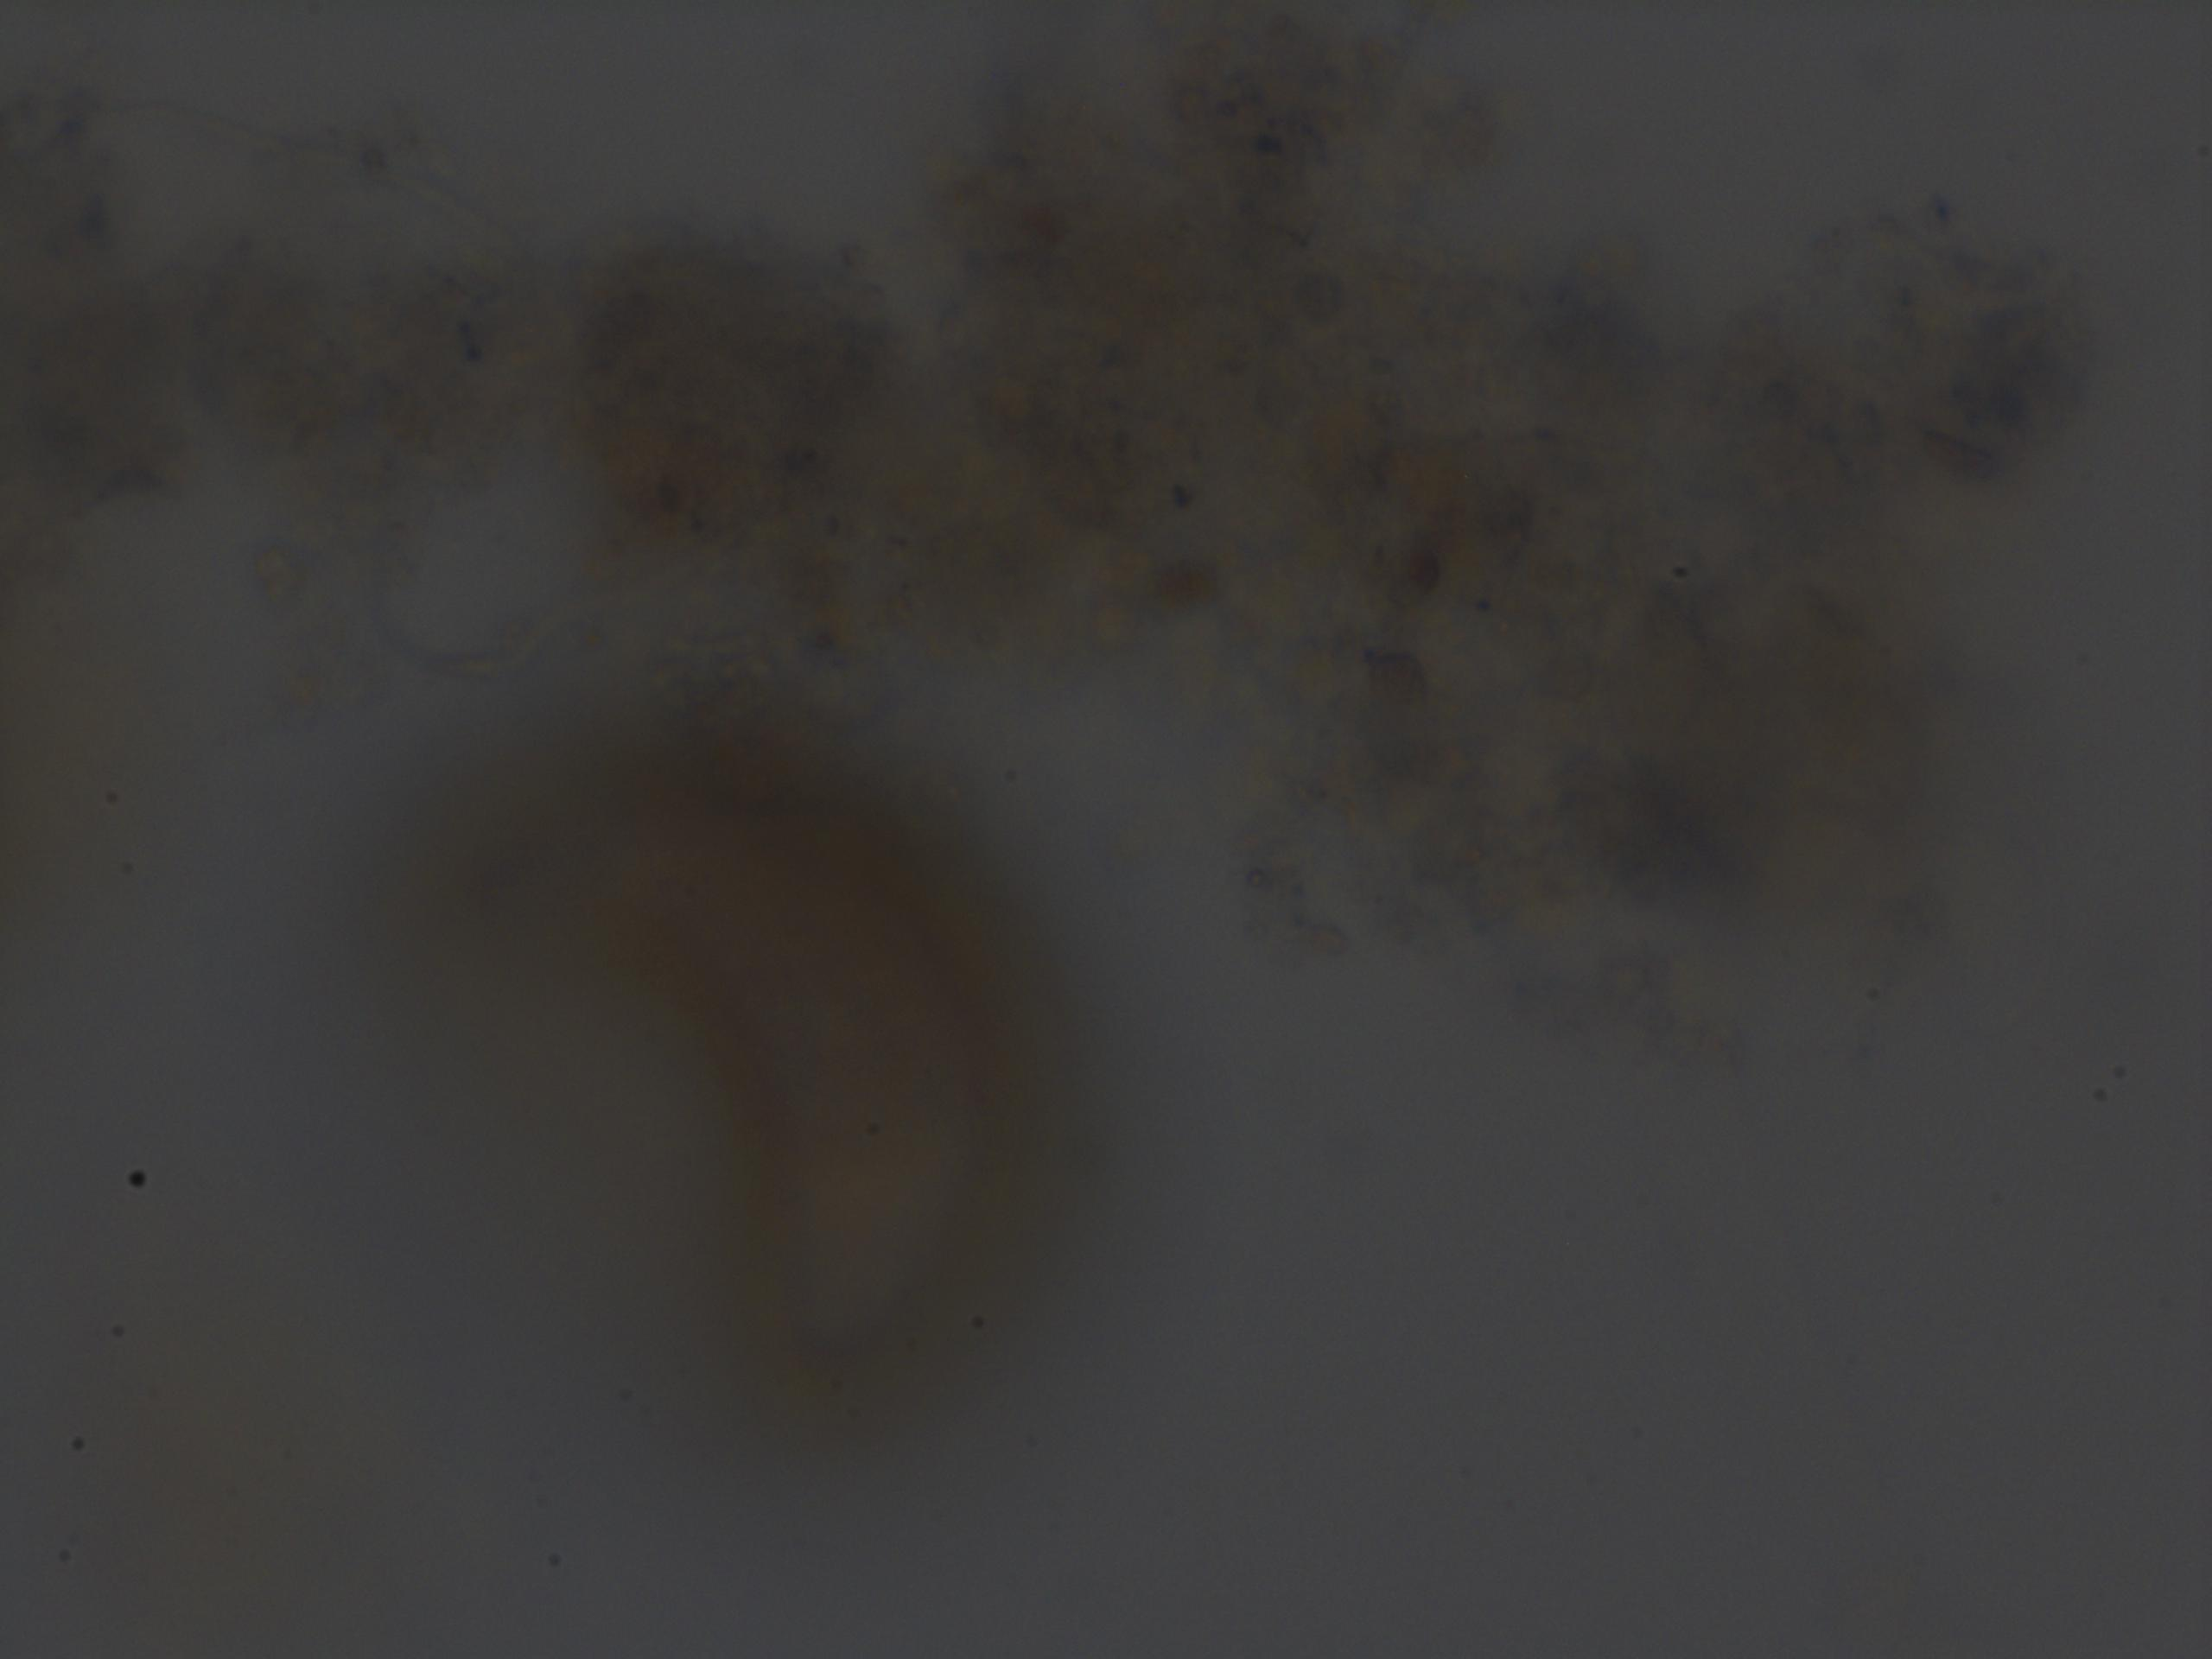filament: (33, 58, 535, 258)
